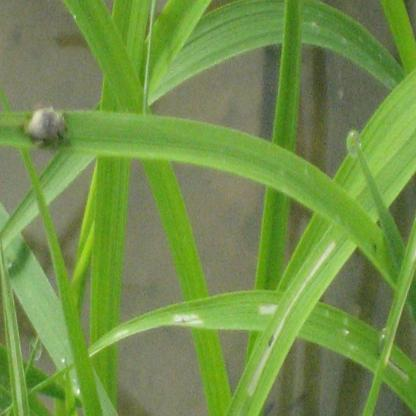rice-bug: (25, 104, 70, 148)
